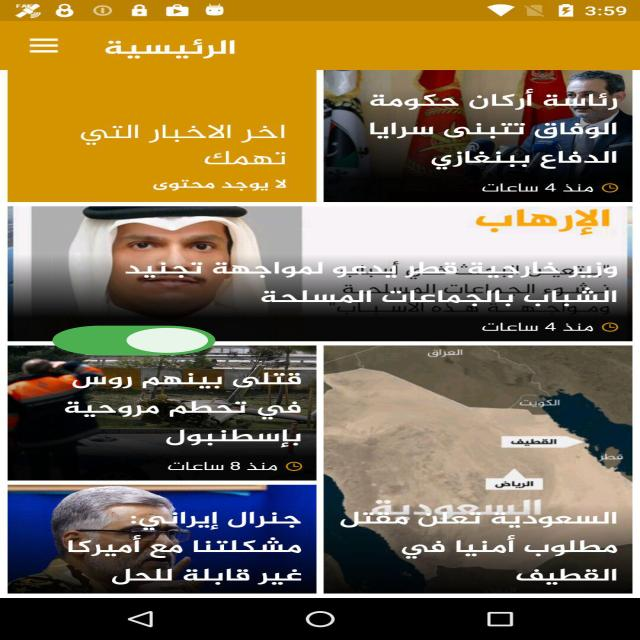social proof: (45, 314, 223, 369)
